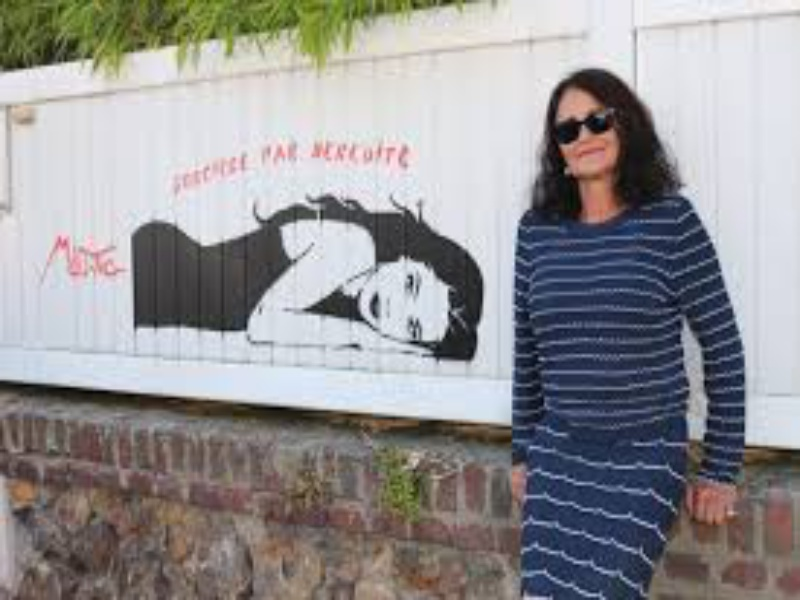TsisyArotava: (526, 66, 651, 191)
